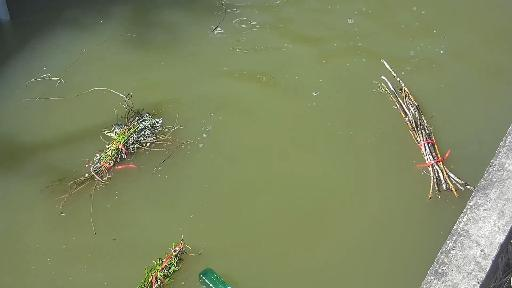plastic: (197, 269, 243, 288)
twig: (25, 21, 199, 238), (370, 58, 474, 202), (125, 232, 198, 288), (211, 0, 241, 32)
